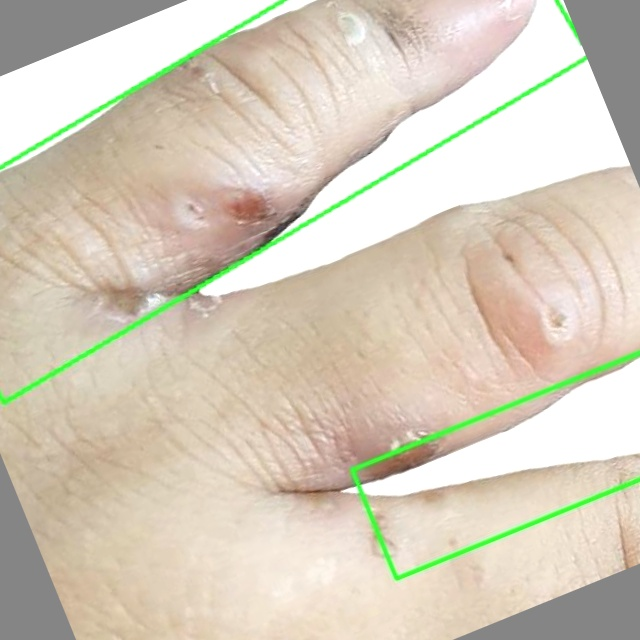Scabies: (0, 0, 587, 403), (352, 352, 639, 578)
